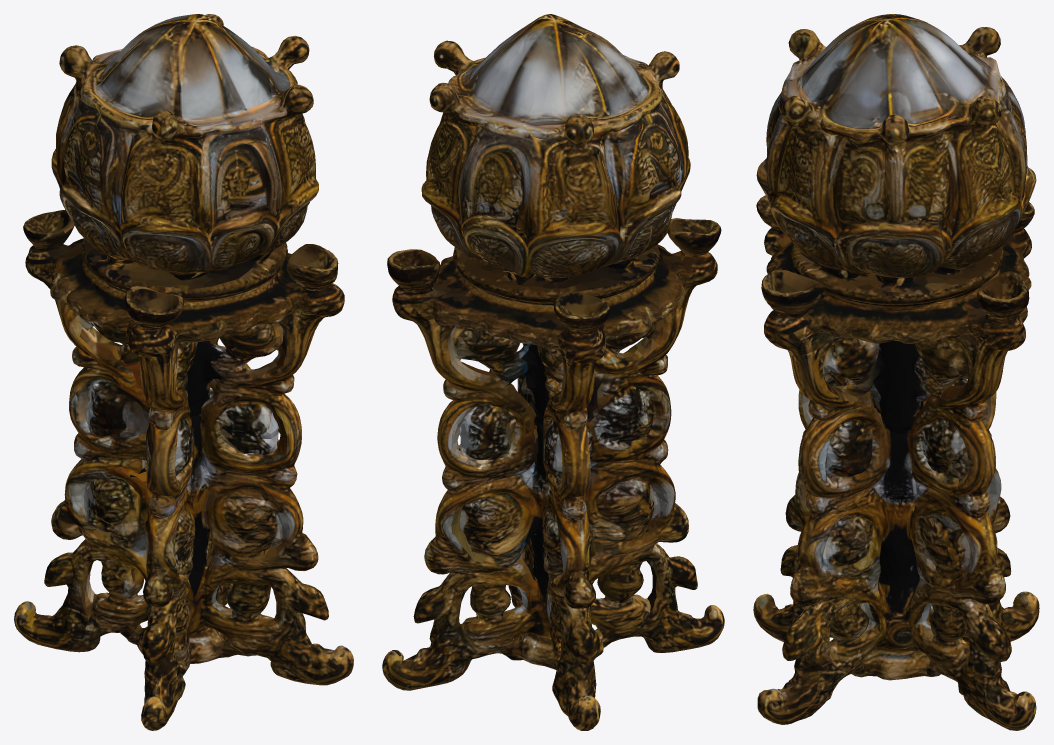
3 renders of one model, left to right at view 1: azimuth 30°, elevation 25°; view 2: azimuth 150°, elevation 25°; view 3: azimuth 270°, elevation 25°, orthographic. The views are drawn at different scales.
Visible parts, largest first — view 1: textured_mesh; view 2: textured_mesh; view 3: textured_mesh.
Boxes of the visible parts, x1,y1,x2,y2 form: textured_mesh: [14, 14, 353, 730]; textured_mesh: [382, 14, 724, 730]; textured_mesh: [753, 14, 1039, 730].
Size of the model in its own units: 0.759 by 2 by 0.775.
1 material, 1 textured.
